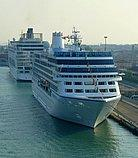Ship: (30, 28, 127, 132)
